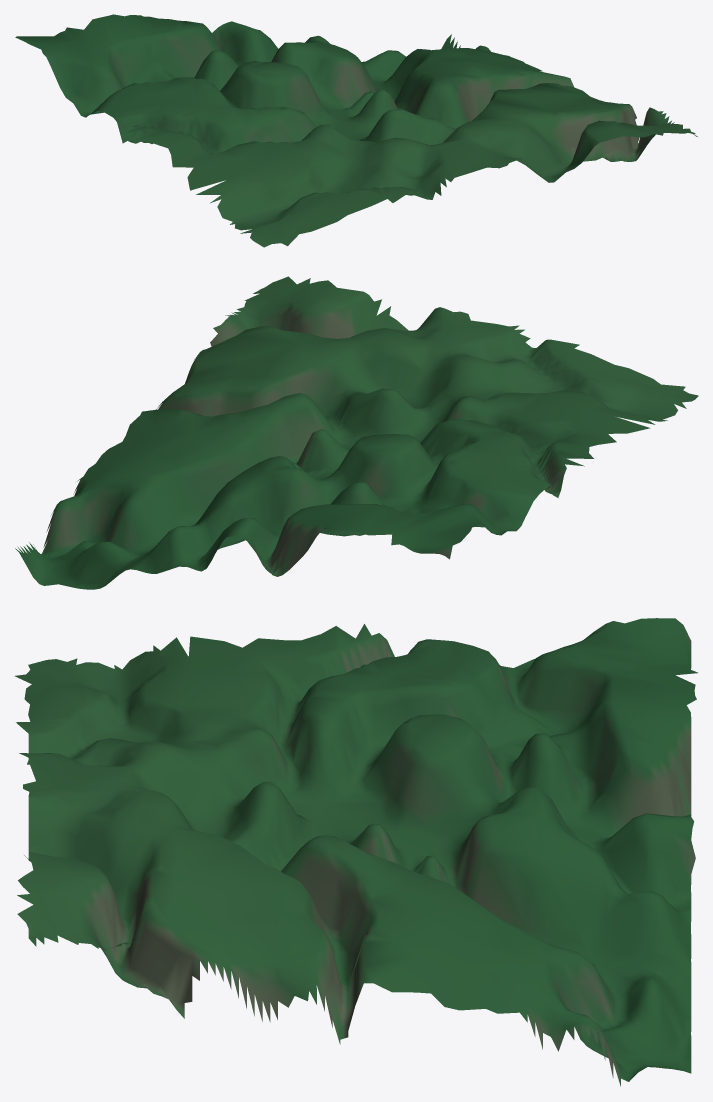
Rendered from payo_land_xm1_y6_lod1.glb.
3 renders of one model, top to bottom at view 1: azimuth 30°, elevation 25°; view 2: azimuth 150°, elevation 25°; view 3: azimuth 270°, elevation 25°, orthographic. The views are drawn at different scales.
Parts seen in each view (by area): view 1: payo_land_xm1_y6; view 2: payo_land_xm1_y6; view 3: payo_land_xm1_y6.
Boxes of the visible parts, left/top/right/bottom form: payo_land_xm1_y6: left=15, top=14, right=697, bottom=247; payo_land_xm1_y6: left=15, top=276, right=698, bottom=589; payo_land_xm1_y6: left=14, top=618, right=697, bottom=1086.
Size of the model in its own units: 266 by 79.65 by 264.
